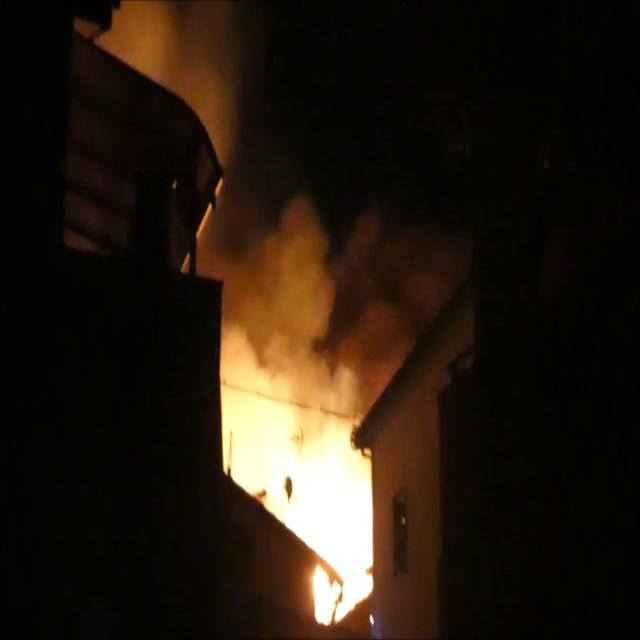Fire: (228, 356, 380, 620)
Smoke: (226, 190, 444, 406), (116, 0, 263, 167)
